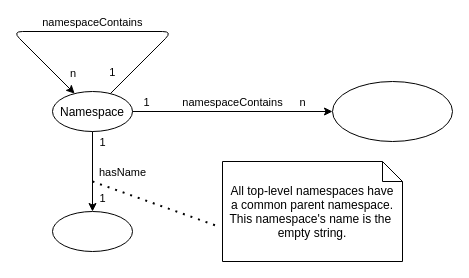
Some shapes in this 469 by 278 pixel diagram are drawn without their labels. Here are the shapes that lost their labels. From the top down, the centre of each, then its label:
point 392,111: FamixClass or Enum or AnnotationType
point 92,231: string
